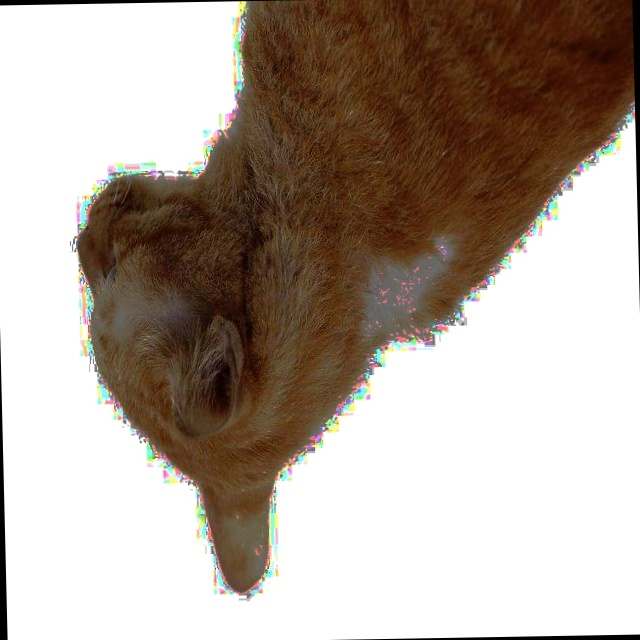hairloss: (359, 257, 440, 325)
